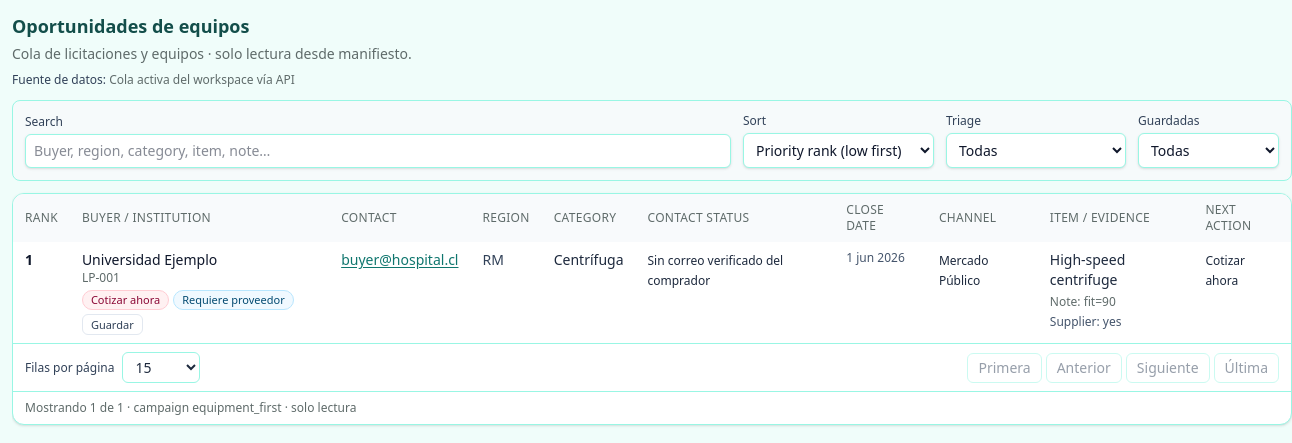
Test: EquipmentOpportunitiesTable › clicking save does not open the detail drawer
The image size is (1292, 443).
Click the button with aria-label "Guardar oportunidad: Universidad Ejemplo".
click(112, 325)  # box [82,314,143,336]
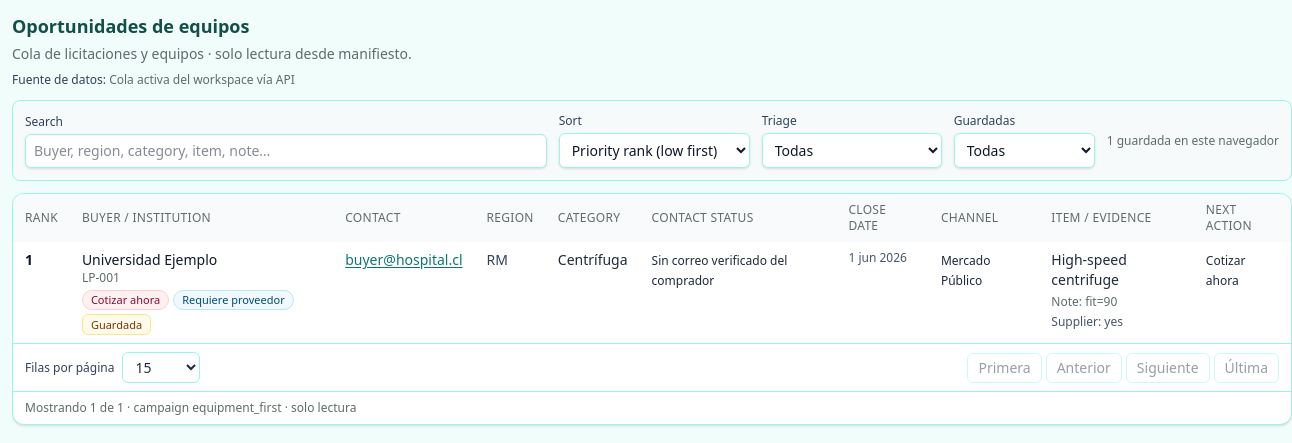
Expected: the button with aria-label "Quitar de guardadas: Universidad Ejemplo" is shown, [82,314,151,336]
